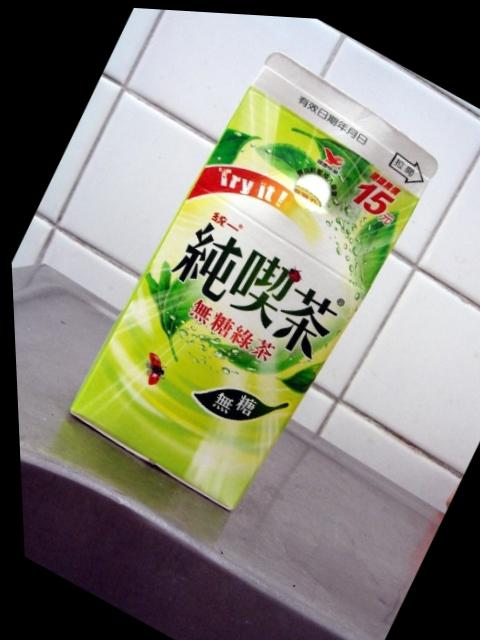cardboard: (15, 10, 479, 509)
